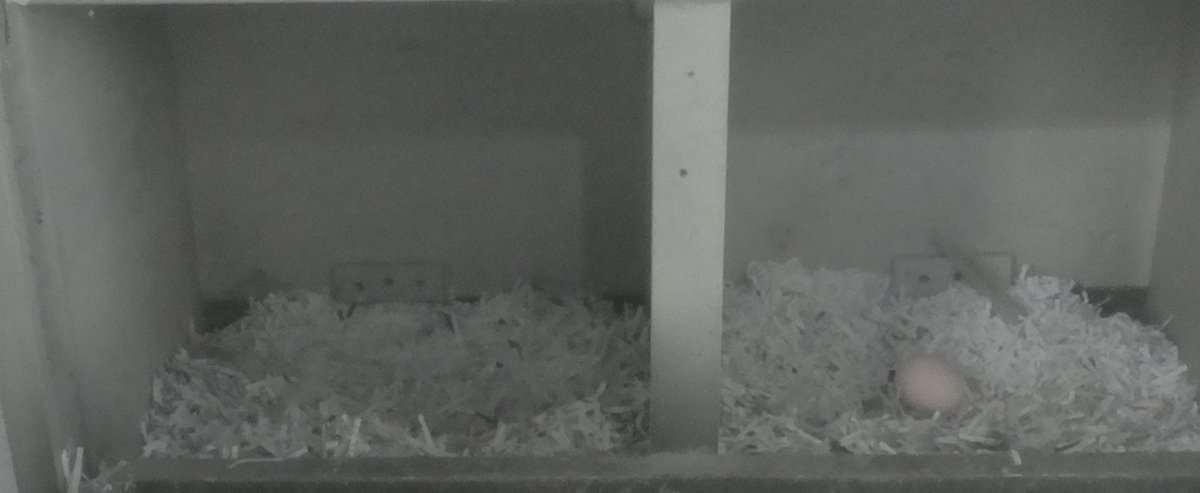egg: (892, 349, 974, 422)
